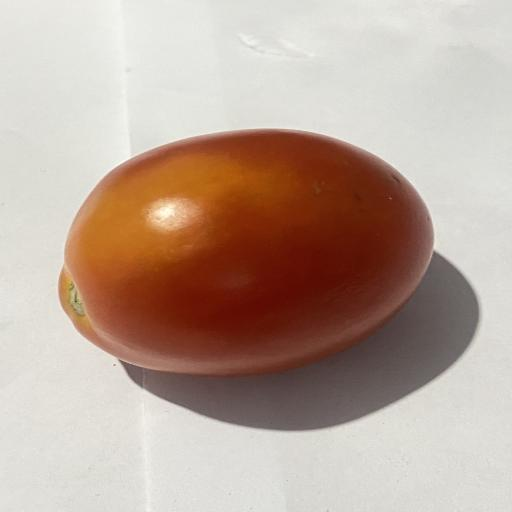ripe: (59, 129, 433, 376)
